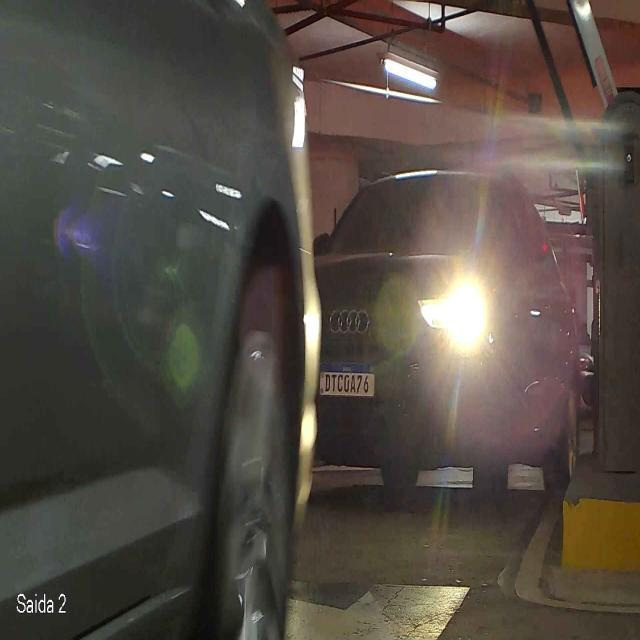mercosul_plate: (318, 363, 376, 398)
